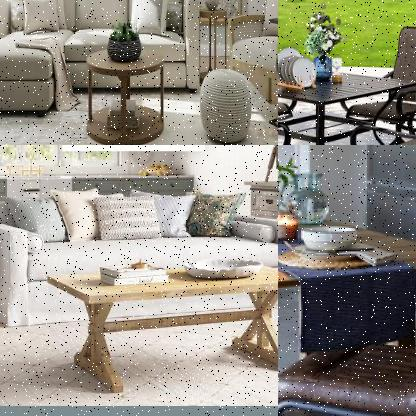table: (43, 259, 277, 399), (278, 197, 415, 415), (278, 70, 415, 144), (83, 39, 167, 144), (196, 5, 231, 94)
